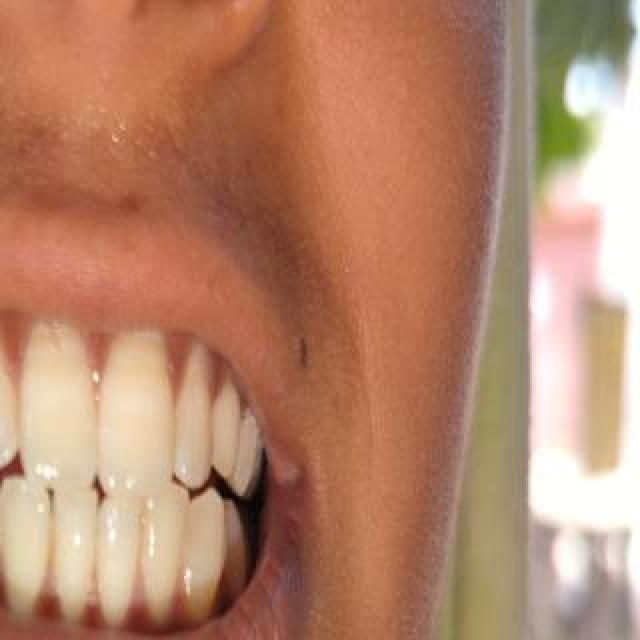maligned: (183, 478, 229, 610), (0, 456, 10, 606)
